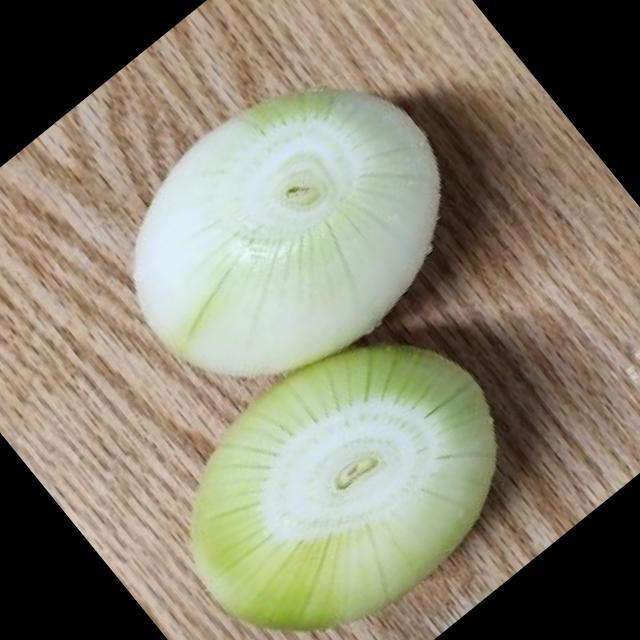Onion: (188, 346, 496, 629), (136, 95, 443, 378)
